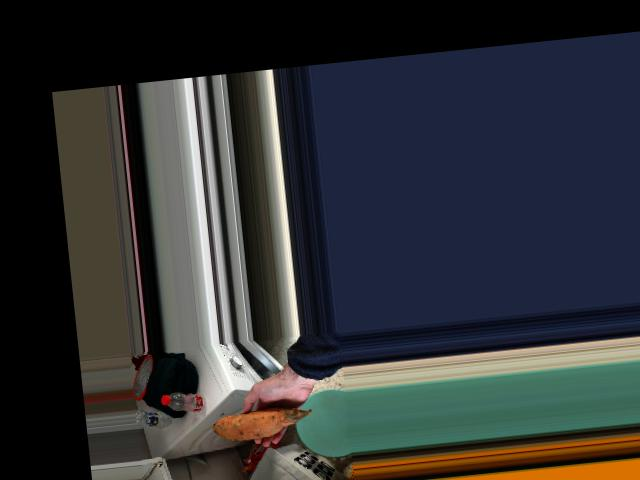sweet_potato: (211, 402, 310, 443)
